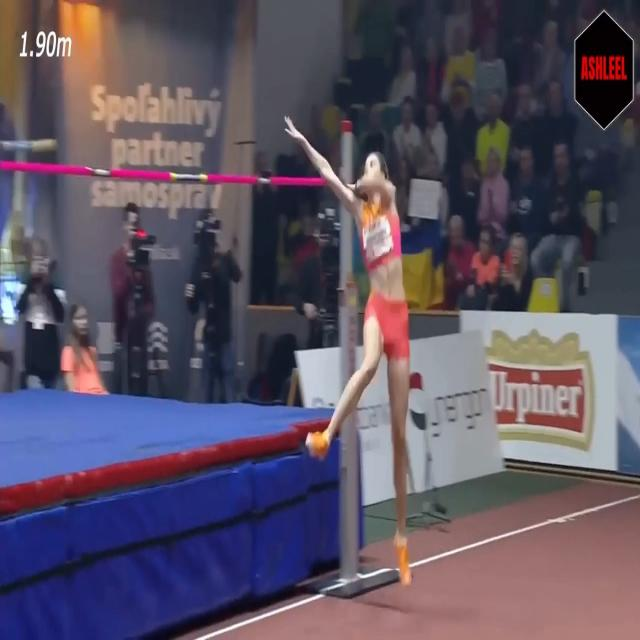jump: (282, 114, 413, 584)
